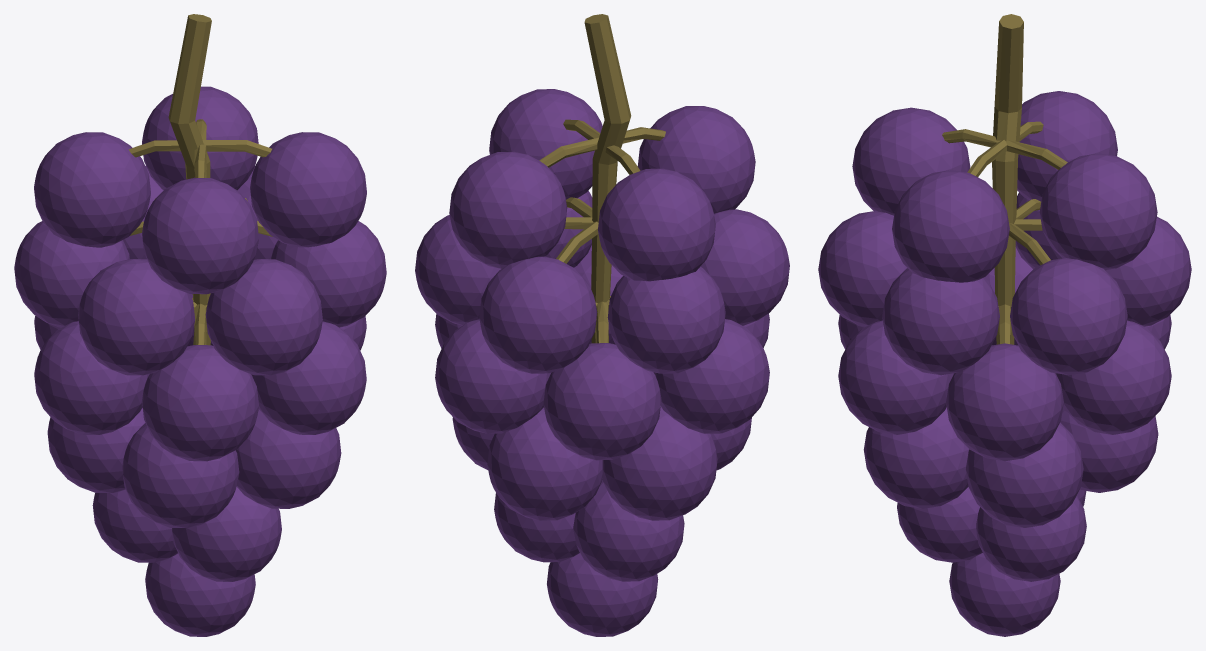
The model's file is grape_bunch.glb.
3 renders of one model, left to right at view 1: azimuth 30°, elevation 25°; view 2: azimuth 150°, elevation 25°; view 3: azimuth 270°, elevation 25°, orthographic.
Parts seen in each view (by area): view 1: Grape bunch detail; view 2: Grape bunch detail; view 3: Grape bunch detail.
Boxes of the visible parts, left/top/right/bottom form: Grape bunch detail: left=14, top=14, right=386, bottom=636; Grape bunch detail: left=415, top=14, right=789, bottom=636; Grape bunch detail: left=818, top=14, right=1191, bottom=636.
Size of the model in its own units: 0.12 by 0.2216 by 0.1221.
